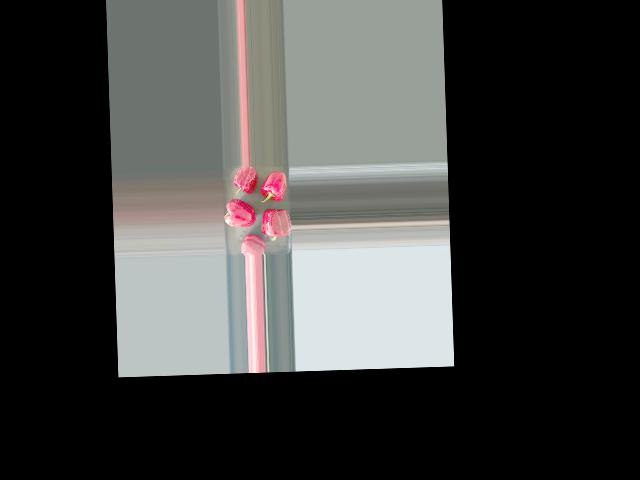bell_pepper: (235, 232, 267, 255)
